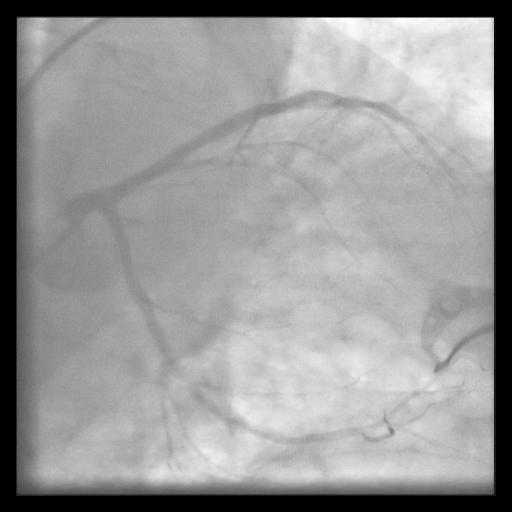Stenosis: (170, 360, 203, 401)
